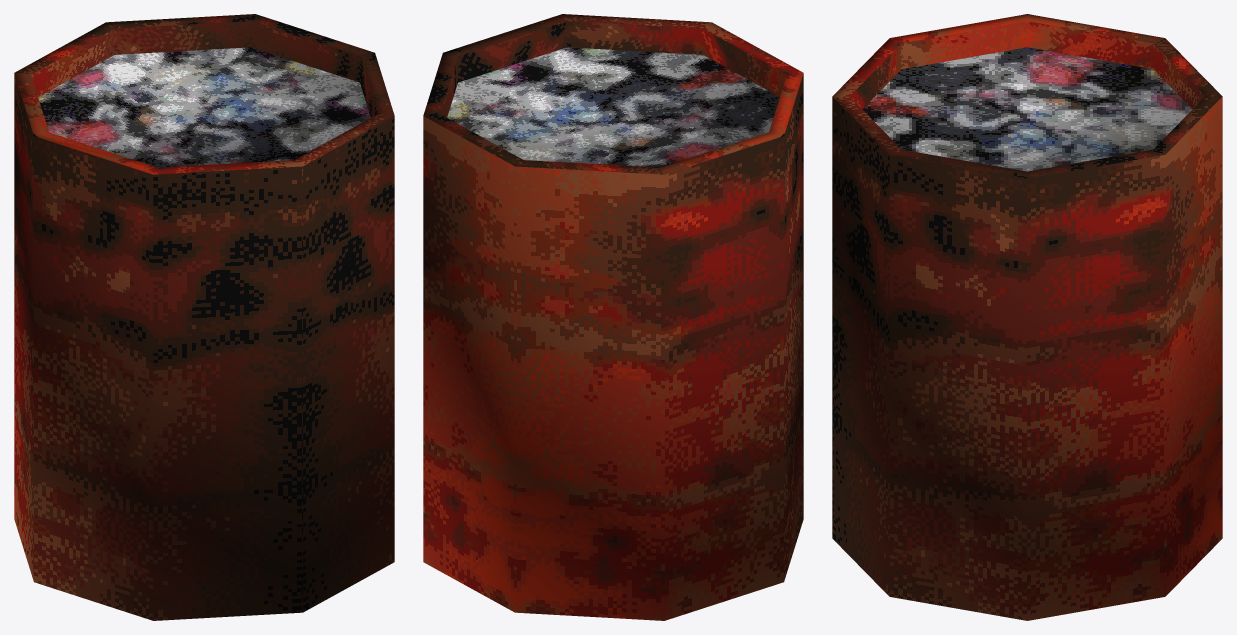
File: barrel.glb
3 views of the same model, side by side, from view 1: azimuth 30°, elevation 25°; view 2: azimuth 150°, elevation 25°; view 3: azimuth 270°, elevation 25° (orthographic).
Visible parts, largest first — view 1: Barrel; view 2: Barrel; view 3: Barrel.
Part boxes in pixels (x1,y1,x2,y2): Barrel: (14, 14, 394, 620); Barrel: (423, 14, 803, 620); Barrel: (832, 14, 1222, 620).
Bounding box in the file's own units: 0.8 × 1 × 0.8.
Materials: 1 (1 with a texture image).
